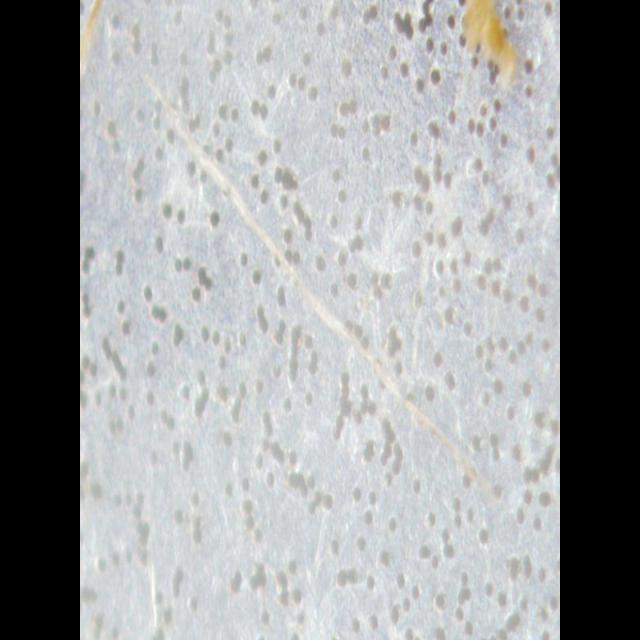Fibre: (120, 1, 488, 485)
